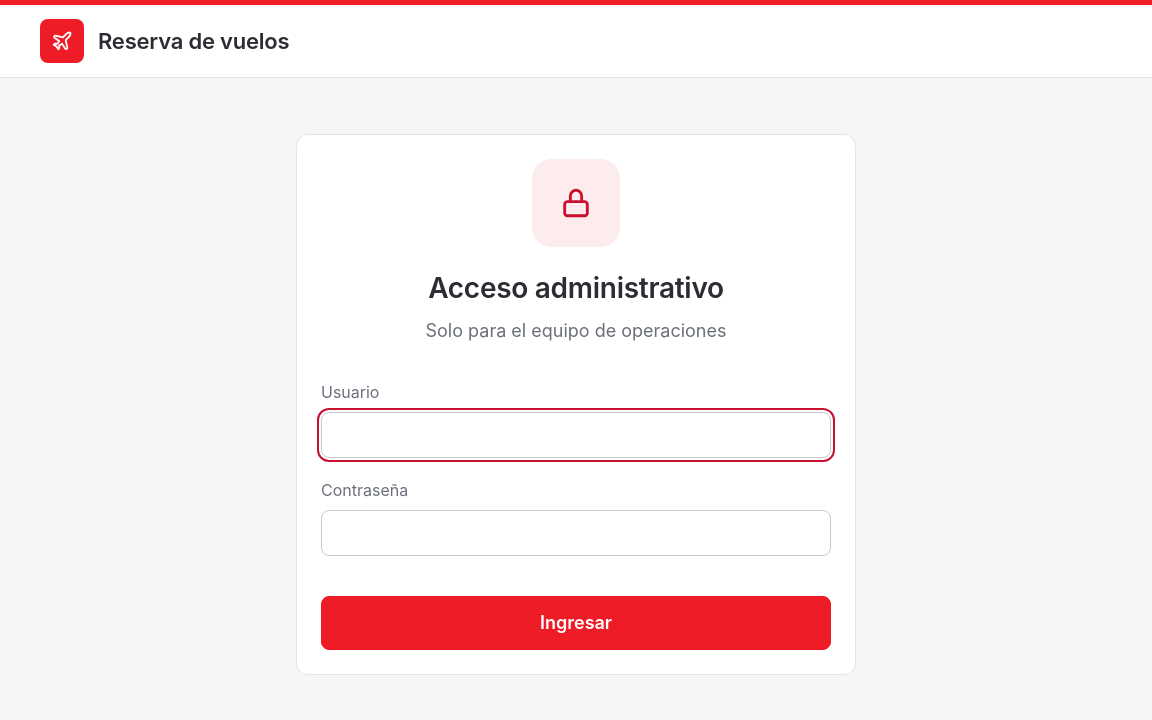
the login screen › a wrong password shows one message, empties the password and puts the cursor there
Type "admin" into the field labelled "Usuario" at (576, 435), box [321,412,831,458]
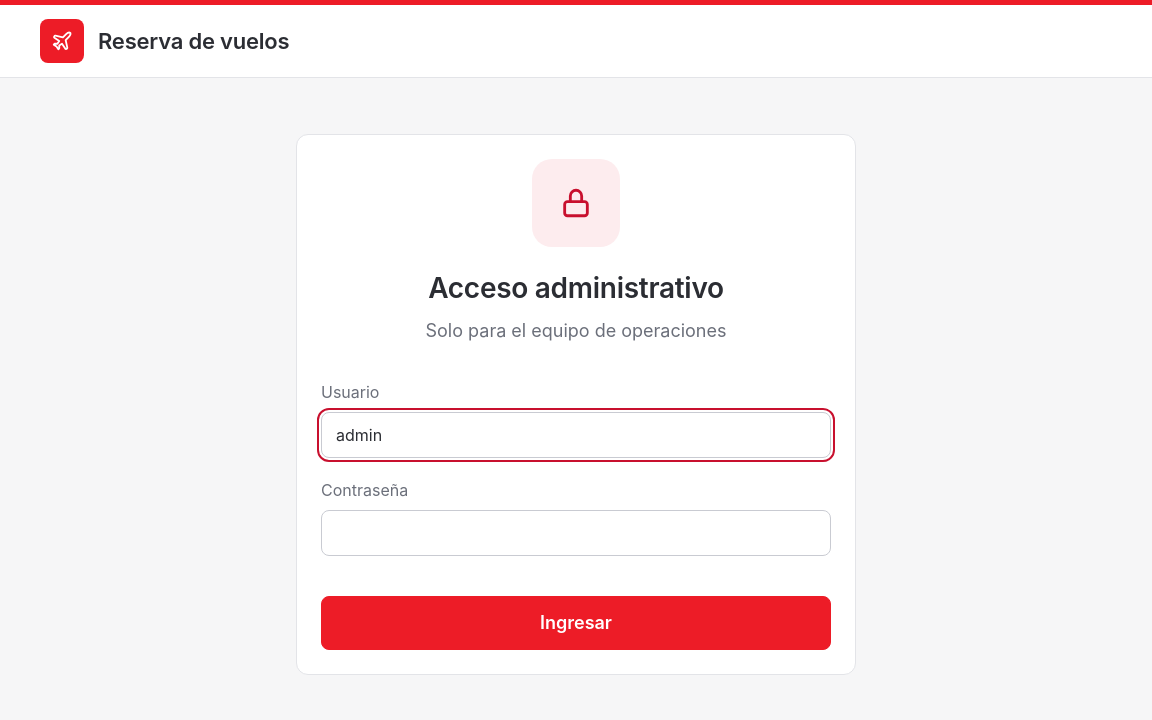
Type "nope" into the password field labelled "Contraseña" at (576, 533), box [321,510,831,556]
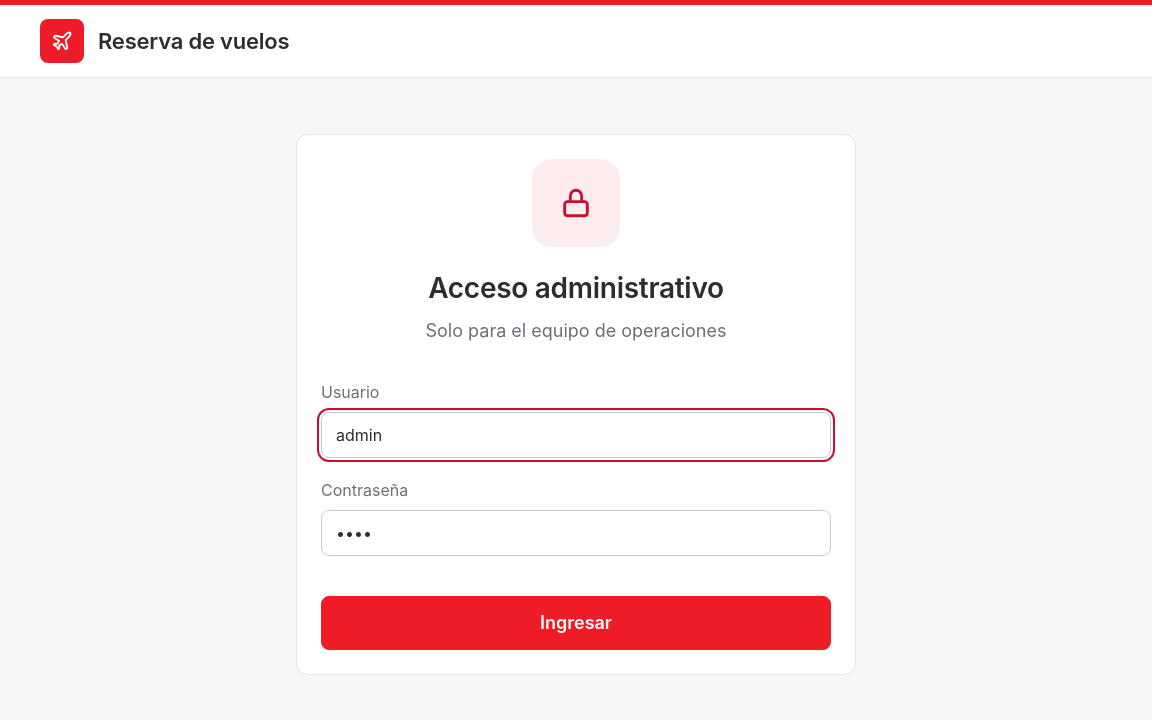
Click the button "Ingresar" at (576, 623), box [321,596,831,650]
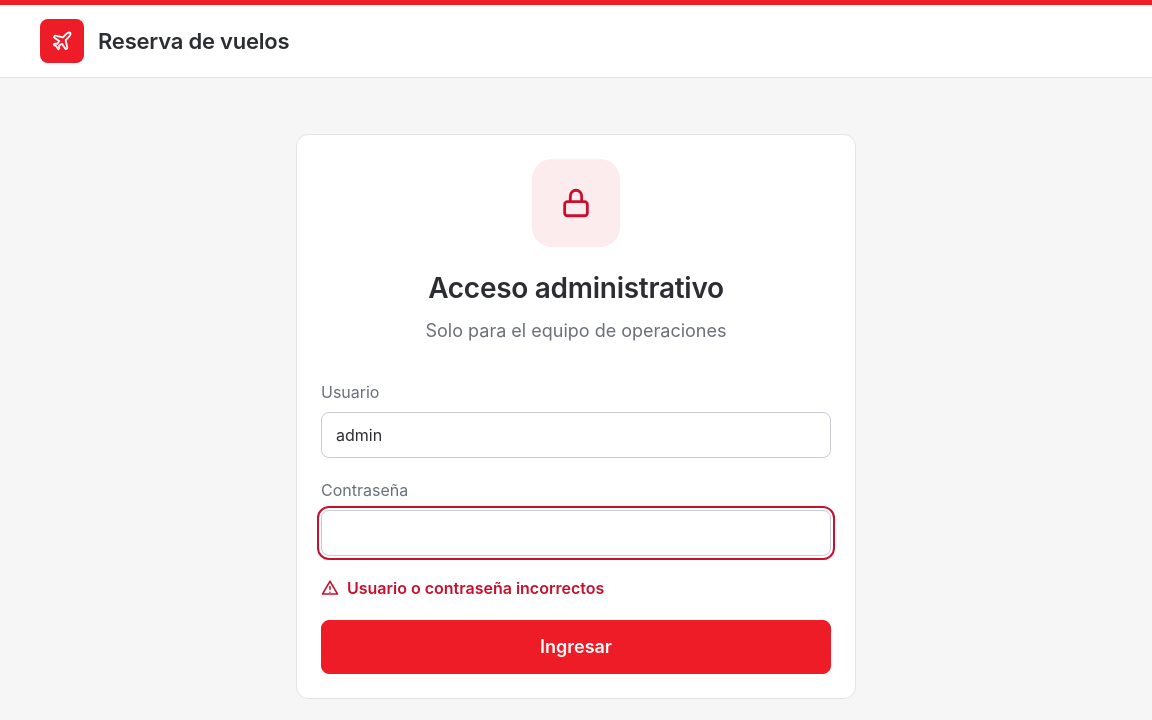
Result: the message reads "Usuario o contraseña incorrectos" at [347,578,604,598]
Result: the password field labelled "Contraseña" is empty at [321,510,831,556]
